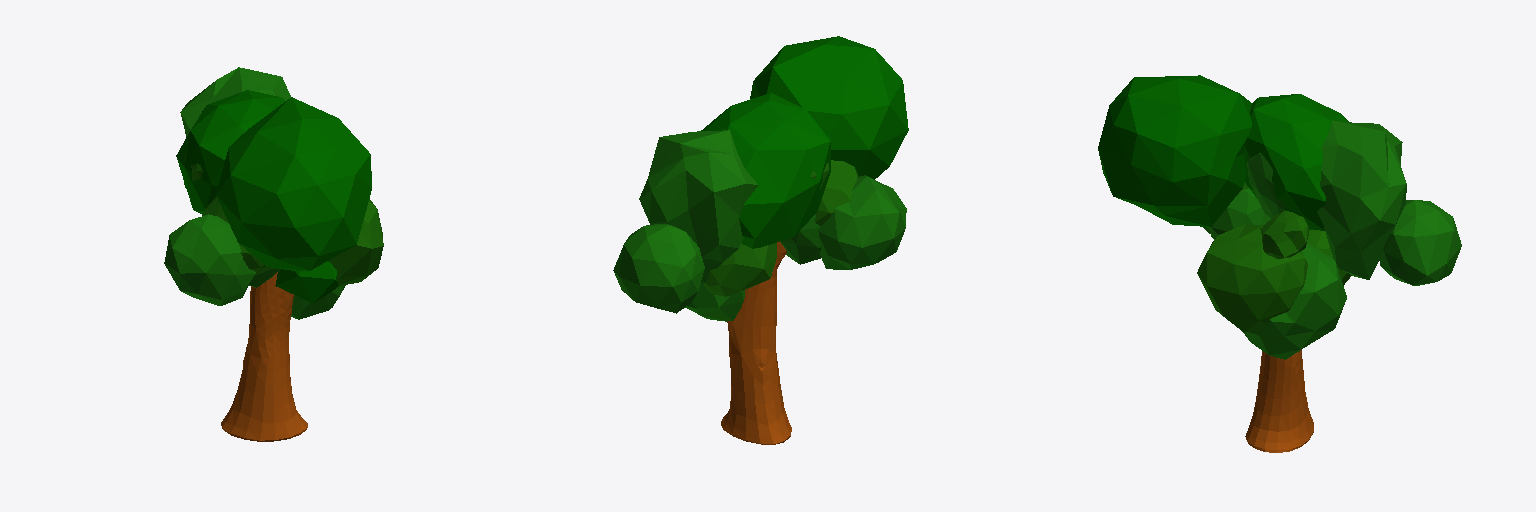
The model's file is tree.obj.
3 views of the same model, side by side, from view 1: azimuth 30°, elevation 25°; view 2: azimuth 150°, elevation 25°; view 3: azimuth 270°, elevation 25° (orthographic).
Parts seen in each view (by area): view 1: Leaves_1_Icosphere, Tree_2_Mesh, Leaves_1.002_Icosphere.008, Leaves_2_Icosphere.001, Leaves_4.001_Icosphere.011, Leaves_3.001_Icosphere.005, Leaves_3_Icosphere.002, Leaves_3.002_Icosphere.010, Leaves_1.001_Icosphere.003; view 2: Leaves_1_Icosphere, Leaves_2_Icosphere.001, Leaves_4.001_Icosphere.011, Tree_2_Mesh, Leaves_6_Icosphere.013, Leaves_1.002_Icosphere.008, Leaves_4_Icosphere.007, Leaves_1.001_Icosphere.003, Leaves_3.002_Icosphere.010, Leaves_2.002_Icosphere.009; view 3: Leaves_1_Icosphere, Leaves_4.001_Icosphere.011, Leaves_2_Icosphere.001, Leaves_3.001_Icosphere.005, Leaves_3.002_Icosphere.010, Leaves_6_Icosphere.013, Tree_2_Mesh, Leaves_5_Icosphere.006, Leaves_2.002_Icosphere.009, Leaves_5.001_Icosphere.012, Leaves_4_Icosphere.007.
Part boxes in pixels (bbox=[...]): Leaves_1_Icosphere: bbox=[216, 97, 371, 271]; Tree_2_Mesh: bbox=[221, 272, 307, 441]; Leaves_1.002_Icosphere.008: bbox=[164, 214, 255, 305]; Leaves_2_Icosphere.001: bbox=[176, 90, 285, 214]; Leaves_4.001_Icosphere.011: bbox=[180, 67, 290, 136]; Leaves_3.001_Icosphere.005: bbox=[329, 199, 383, 285]; Leaves_3_Icosphere.002: bbox=[275, 261, 338, 302]; Leaves_3.002_Icosphere.010: bbox=[291, 285, 345, 319]; Leaves_1.001_Icosphere.003: bbox=[202, 196, 272, 274]; Leaves_1_Icosphere: bbox=[750, 36, 908, 179]; Leaves_2_Icosphere.001: bbox=[701, 93, 830, 248]; Leaves_4.001_Icosphere.011: bbox=[639, 130, 758, 282]; Tree_2_Mesh: bbox=[721, 242, 791, 444]; Leaves_6_Icosphere.013: bbox=[613, 224, 704, 313]; Leaves_1.002_Icosphere.008: bbox=[818, 175, 906, 269]; Leaves_4_Icosphere.007: bbox=[703, 243, 776, 296]; Leaves_1.001_Icosphere.003: bbox=[815, 160, 858, 225]; Leaves_3.002_Icosphere.010: bbox=[685, 283, 744, 321]; Leaves_2.002_Icosphere.009: bbox=[780, 214, 820, 264]; Leaves_1_Icosphere: bbox=[1098, 75, 1251, 226]; Leaves_4.001_Icosphere.011: bbox=[1317, 120, 1406, 279]; Leaves_2_Icosphere.001: bbox=[1244, 94, 1348, 230]; Leaves_3.001_Icosphere.005: bbox=[1197, 224, 1307, 331]; Leaves_3.002_Icosphere.010: bbox=[1243, 243, 1346, 359]; Leaves_6_Icosphere.013: bbox=[1379, 200, 1461, 285]; Tree_2_Mesh: bbox=[1245, 350, 1313, 452]; Leaves_5_Icosphere.006: bbox=[1260, 210, 1309, 258]; Leaves_2.002_Icosphere.009: bbox=[1209, 188, 1270, 239]; Leaves_5.001_Icosphere.012: bbox=[1247, 153, 1285, 218]; Leaves_4_Icosphere.007: bbox=[1307, 230, 1351, 285].
Bounding box in the file's own units: 7.97 × 12.24 × 11.53.